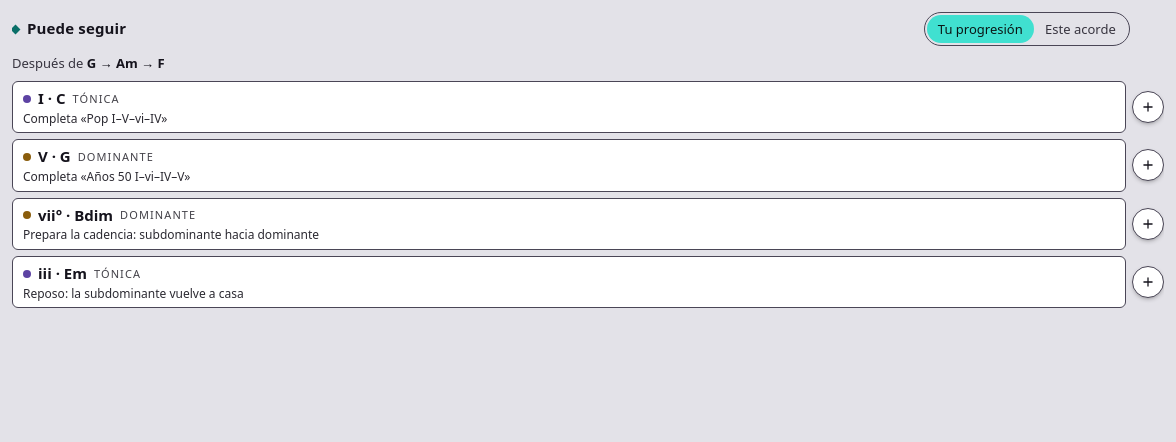
Test case: "Puede seguir" panel › updates as you add its ideas to the progression
The width and height of the screenshot is (1176, 442).
What coordinates should you click on to do the following:
click the button named "Añadir al patrón: C"
I would click on:
 (1148, 107)
Its box is [1132, 91, 1164, 123].
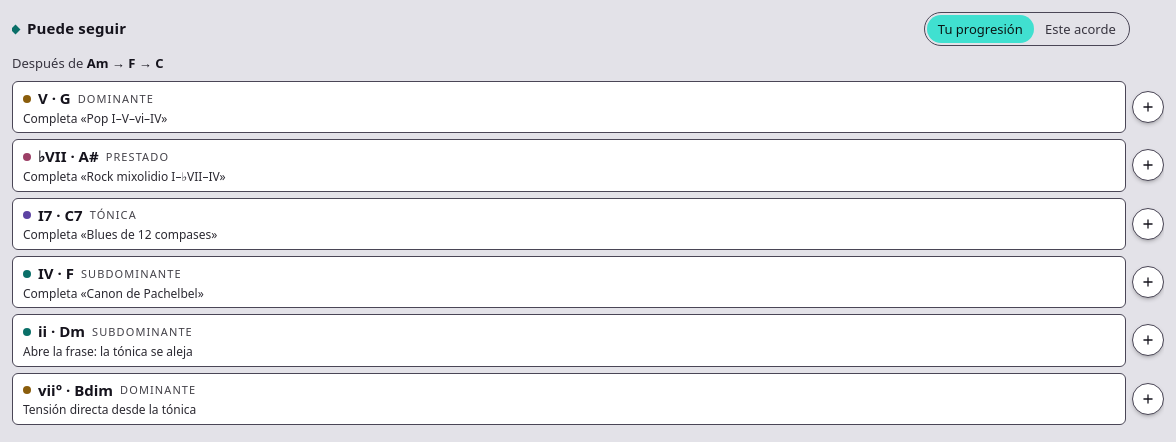
Expected: the text "Am → F → C" is shown, [87, 54, 164, 72]
